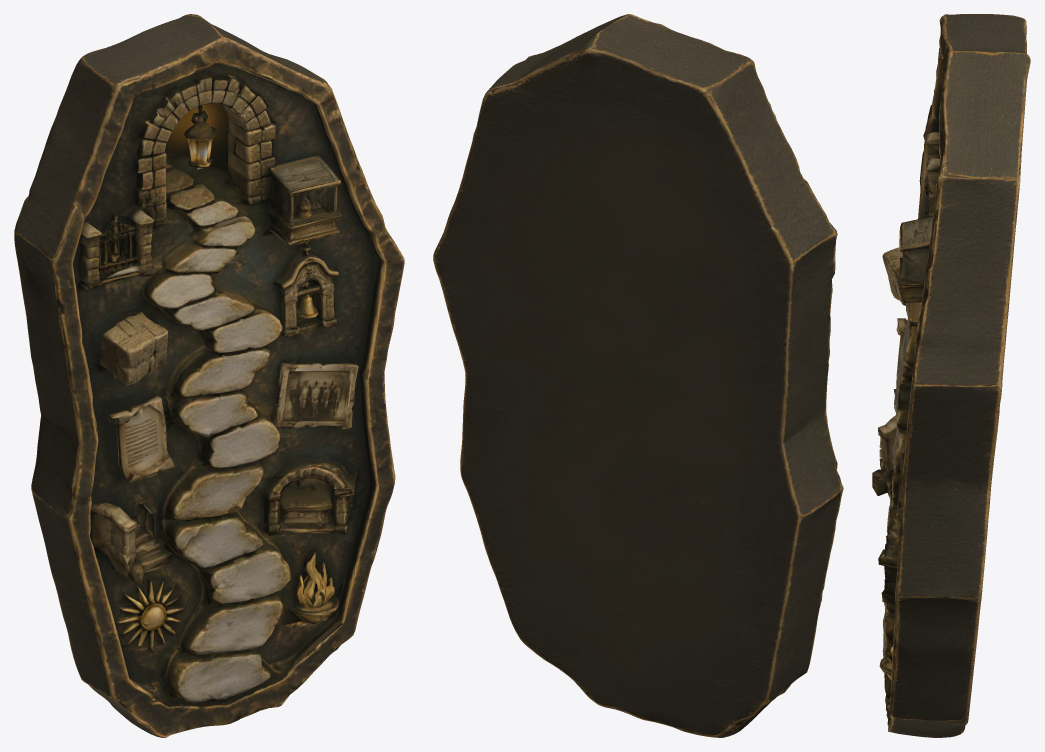
Rendered from Stop-seal-fragments.glb.
3 renders of one model, left to right at view 1: azimuth 30°, elevation 25°; view 2: azimuth 150°, elevation 25°; view 3: azimuth 270°, elevation 25°, orthographic. The views are drawn at different scales.
Parts seen in each view (by area): view 1: Seal_Fragment_06, Seal_Fragment_05, Seal_Fragment_09, Seal_Fragment_07, Seal_Fragment_03, Seal_Fragment_08, Seal_Fragment_02, Seal_Fragment_10, Seal_Fragment_01, Seal_Fragment_04; view 2: Seal_Fragment_06, Seal_Fragment_05, Seal_Fragment_09, Seal_Fragment_03, Seal_Fragment_08, Seal_Fragment_07, Seal_Fragment_02, Seal_Fragment_01, Seal_Fragment_10, Seal_Fragment_04; view 3: Seal_Fragment_07, Seal_Fragment_10, Seal_Fragment_04, Seal_Fragment_09, Seal_Fragment_06, Seal_Fragment_03, Seal_Fragment_08, Seal_Fragment_05, Seal_Fragment_01.
Part boxes in pixels (x1,y1,x2,y2): Seal_Fragment_06: (100,211,311,517); Seal_Fragment_05: (18,266,210,564); Seal_Fragment_09: (100,14,288,247); Seal_Fragment_07: (284,221,404,500); Seal_Fragment_03: (192,474,367,706); Seal_Fragment_08: (14,47,154,300); Seal_Fragment_02: (94,536,277,737); Seal_Fragment_10: (247,45,384,245); Seal_Fragment_01: (40,525,172,714); Seal_Fragment_04: (332,483,393,651); Seal_Fragment_06: (511,220,735,520); Seal_Fragment_05: (649,261,843,562); Seal_Fragment_09: (510,14,725,253); Seal_Fragment_03: (477,469,680,706); Seal_Fragment_08: (672,50,837,300); Seal_Fragment_07: (433,217,575,495); Seal_Fragment_02: (598,536,790,737); Seal_Fragment_01: (690,526,835,717); Seal_Fragment_10: (447,40,572,242); Seal_Fragment_04: (462,479,535,651); Seal_Fragment_07: (878,320,1005,603); Seal_Fragment_10: (899,119,1023,348); Seal_Fragment_04: (890,591,981,724); Seal_Fragment_09: (926,19,1030,197); Seal_Fragment_06: (890,195,935,509); Seal_Fragment_03: (879,489,965,737); Seal_Fragment_08: (921,14,1026,193); Seal_Fragment_05: (878,167,928,491); Seal_Fragment_01: (872,461,892,497).
Size of the model in its own units: 0.5387 by 0.9796 by 0.2081.
1 material, 1 textured.
